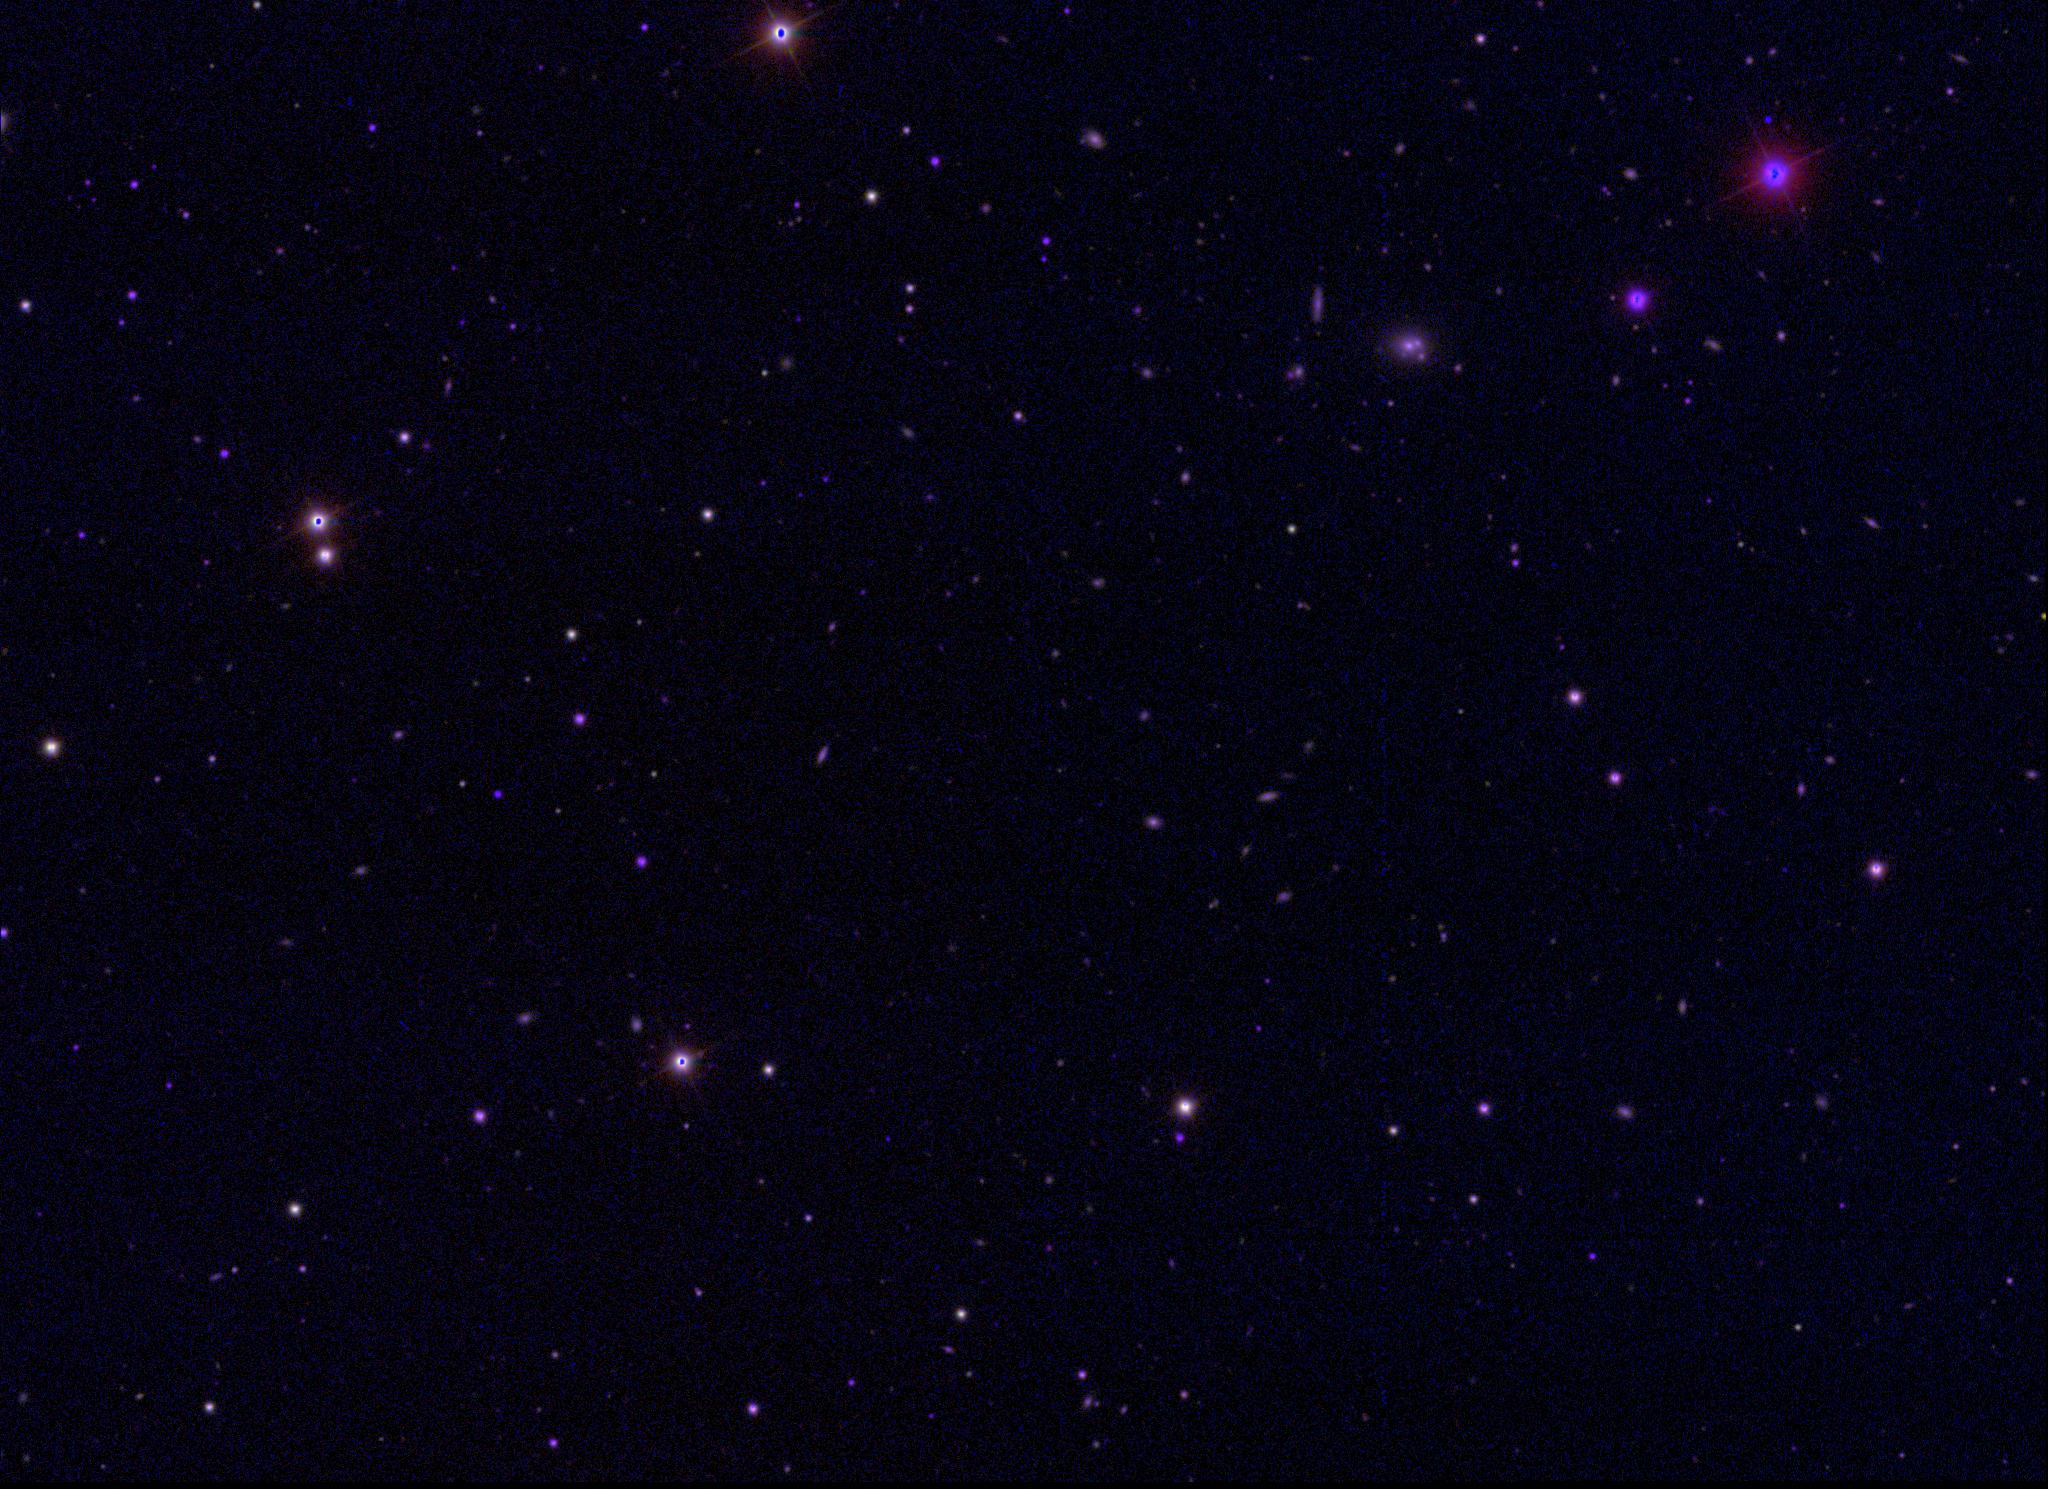L: (1760, 111, 1775, 126)
